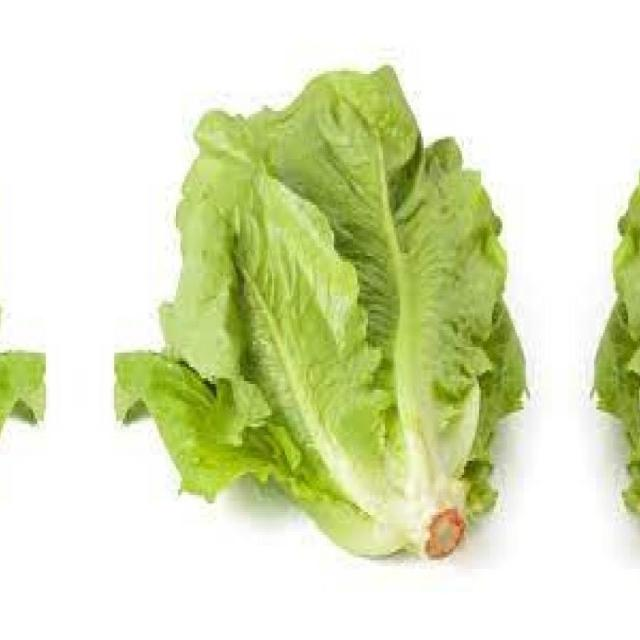healthy: (131, 65, 527, 563), (593, 65, 640, 563), (0, 65, 29, 563)
